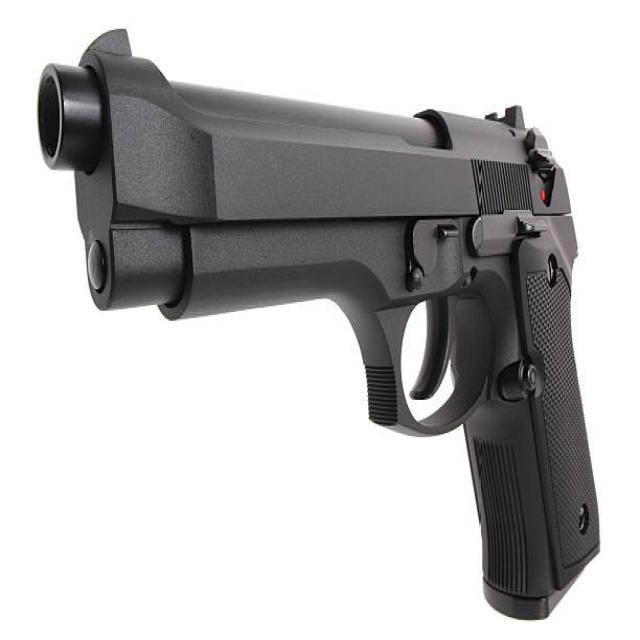pistol: (33, 21, 620, 627)
